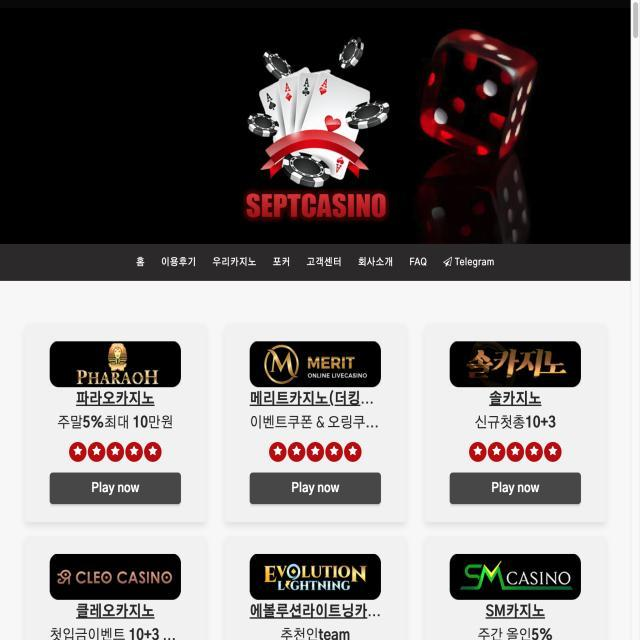button: (246, 469, 384, 506), (47, 470, 182, 506), (448, 471, 582, 506)
navigation bar: (123, 253, 509, 273)
